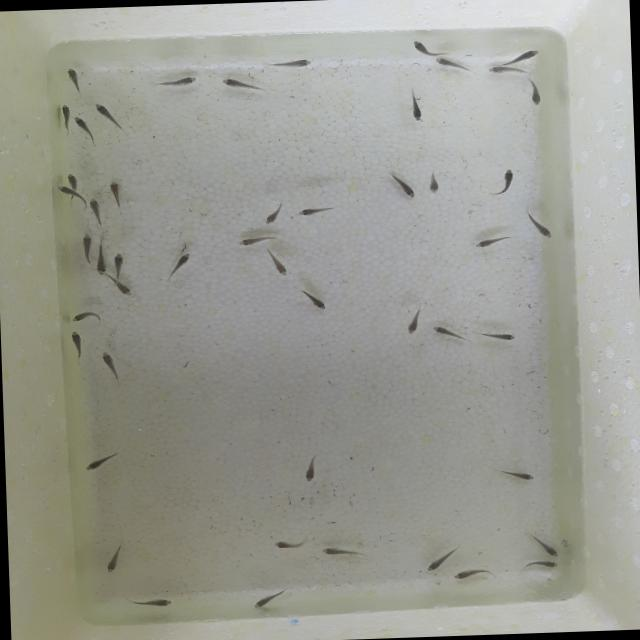fingerling: (64, 61, 88, 100), (101, 346, 123, 387), (123, 593, 174, 609), (83, 447, 115, 472), (218, 76, 262, 94), (490, 466, 534, 484), (103, 540, 126, 574), (318, 544, 368, 559), (404, 92, 427, 124), (430, 322, 466, 342), (300, 449, 320, 484), (389, 174, 418, 198), (424, 169, 446, 200), (422, 552, 456, 572), (532, 534, 558, 559), (168, 250, 194, 274), (266, 254, 290, 280), (260, 202, 288, 224), (476, 329, 518, 343), (448, 568, 496, 580), (270, 538, 318, 550), (90, 102, 116, 124), (530, 218, 556, 240), (294, 204, 334, 218), (107, 178, 127, 205), (499, 165, 516, 196), (72, 310, 108, 324), (522, 559, 560, 572), (158, 76, 198, 88), (250, 592, 280, 608), (270, 58, 316, 68), (526, 84, 543, 110), (236, 235, 270, 248), (70, 330, 84, 360), (406, 311, 422, 337), (110, 278, 133, 296), (472, 237, 503, 250), (412, 38, 432, 58), (303, 294, 328, 310), (56, 104, 74, 126), (514, 48, 540, 63), (95, 242, 107, 274), (436, 56, 458, 72), (54, 184, 81, 197), (113, 250, 126, 277), (74, 116, 90, 137), (88, 198, 102, 222), (80, 230, 94, 254), (487, 66, 521, 75), (63, 170, 81, 187)
